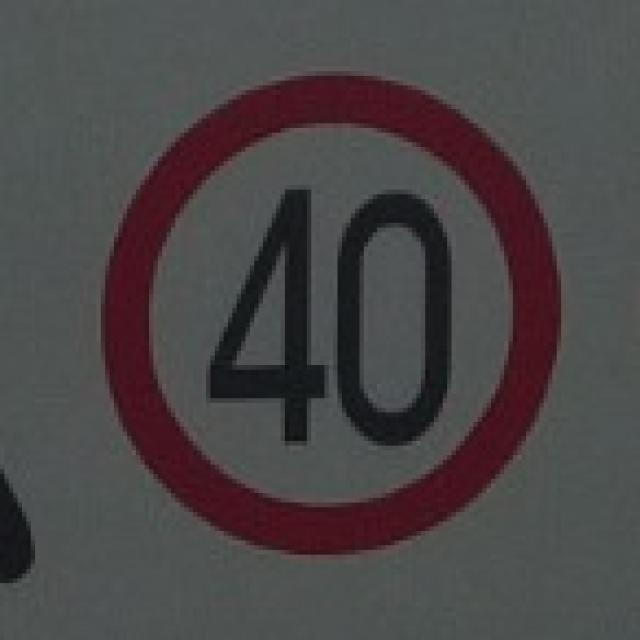Speed Limit -40-: (202, 185, 459, 446)
